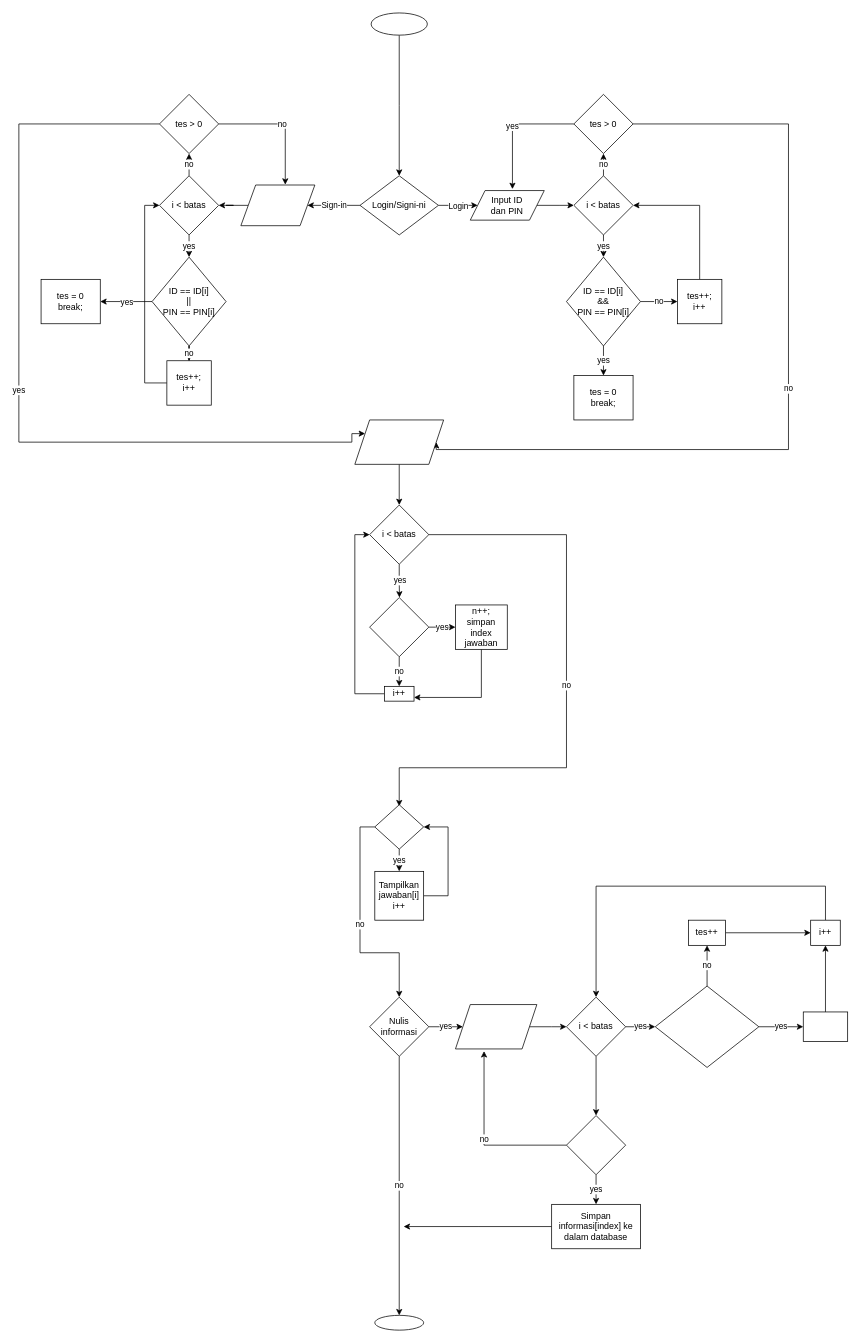
The diagram is 861 pixels wide and 1343 high, and some of its shapes have lost their labels. The shapes that lost their labels are listed below. From the top down, each one's box as (x1, y1, x2, y2) in pixels, then its label:
(370, 12, 427, 35): Start
(240, 184, 315, 226): Input ID danPIN baru
(354, 419, 444, 464): Input pencarian
(369, 597, 429, 657): pencarian sesuai dengan jawaban[i]
(374, 804, 424, 849): i < n
(455, 1004, 537, 1049): Input informasi[index]
(655, 985, 759, 1067): Kemiripan (informasi[index], jawaban[i] > 40%
(803, 1011, 848, 1042): tes = 0;
(566, 1115, 626, 1175): tes == batas
(374, 1315, 424, 1330): End
